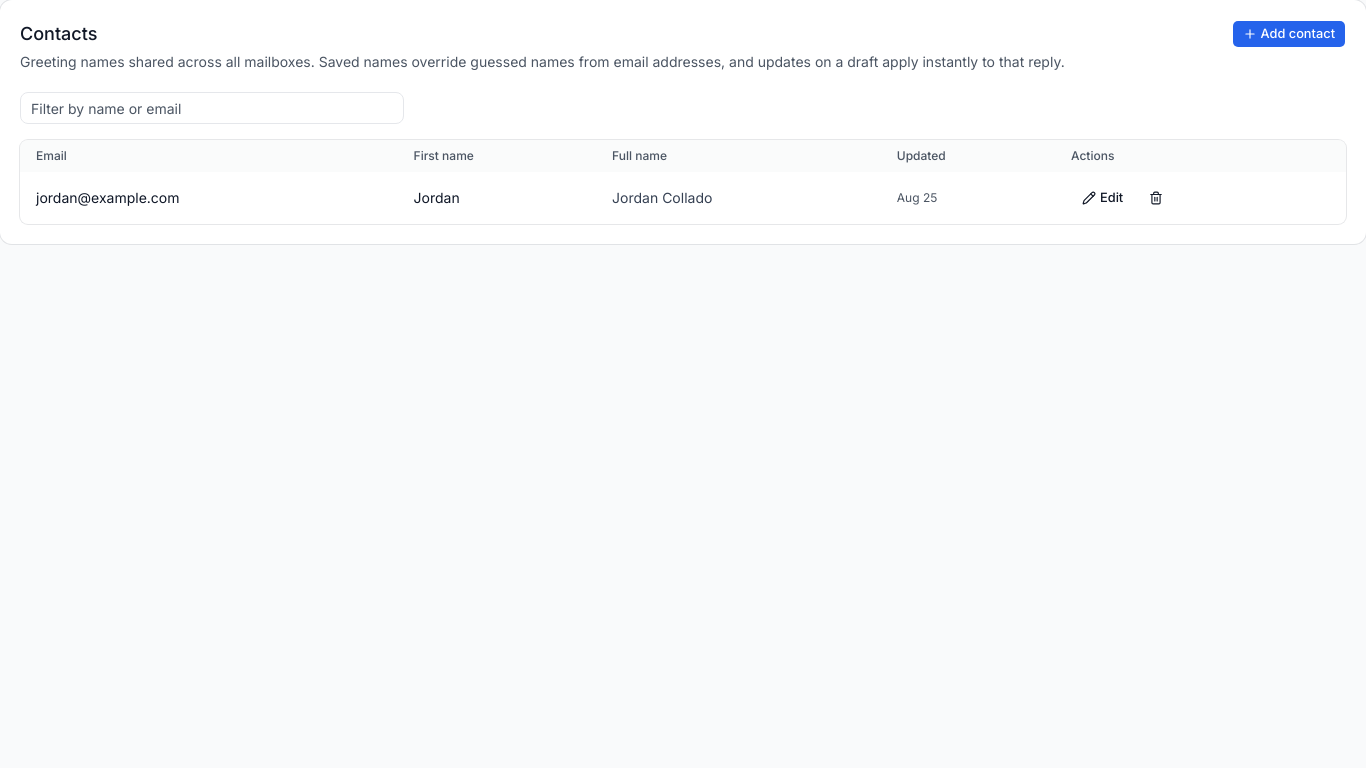
Scenario: ContactsSection › prefills full name when editing a contact from Settings
The image size is (1366, 768).
Expected: the text "Jordan Collado" is shown, 596,172 -> 881,224
Click the button with aria-label "Edit contact jordan@example.com" at (1103, 198), box 1071,184 -> 1134,212
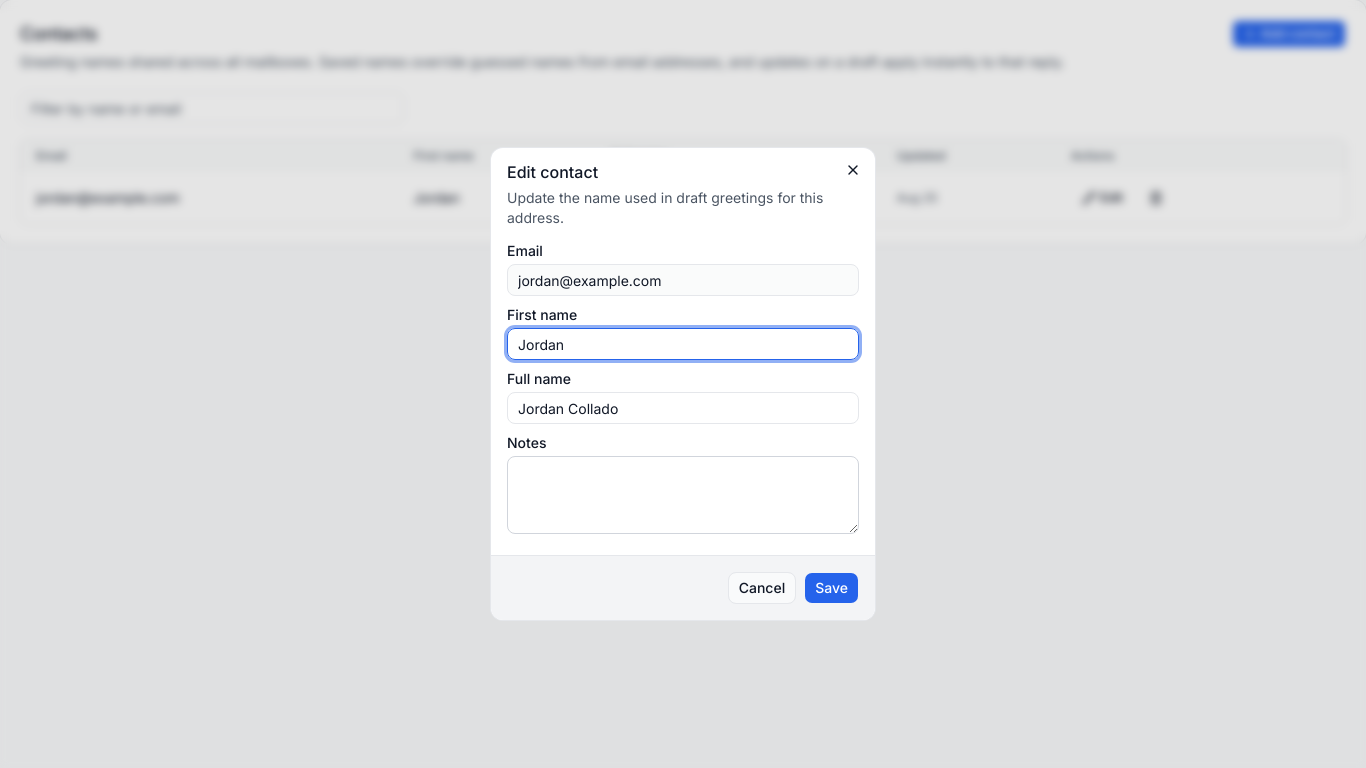
Expected: the field named "Contact first name" holds "Jordan", 507,328 -> 859,360
Expected: the field named "Contact full name" holds "Jordan Collado", 507,392 -> 859,424
